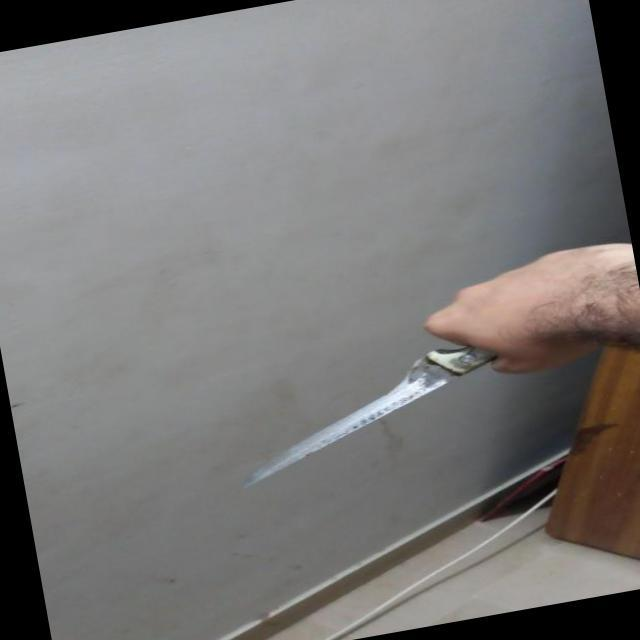Knife: (218, 335, 508, 486)
